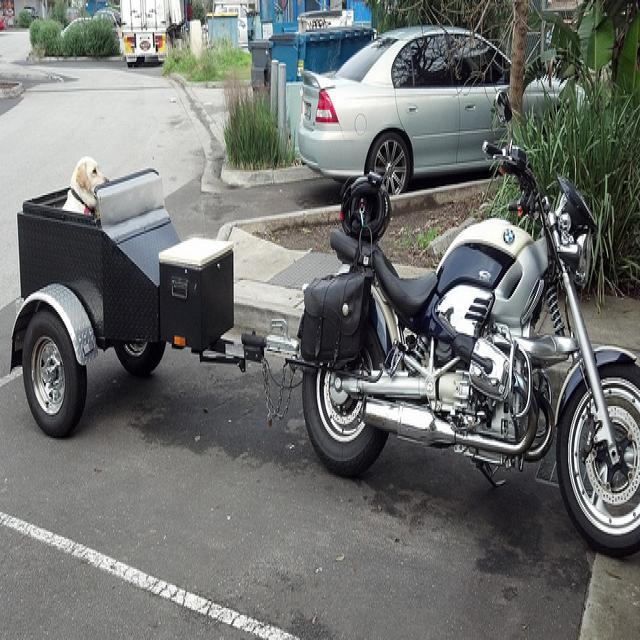motor: (297, 92, 640, 552)
